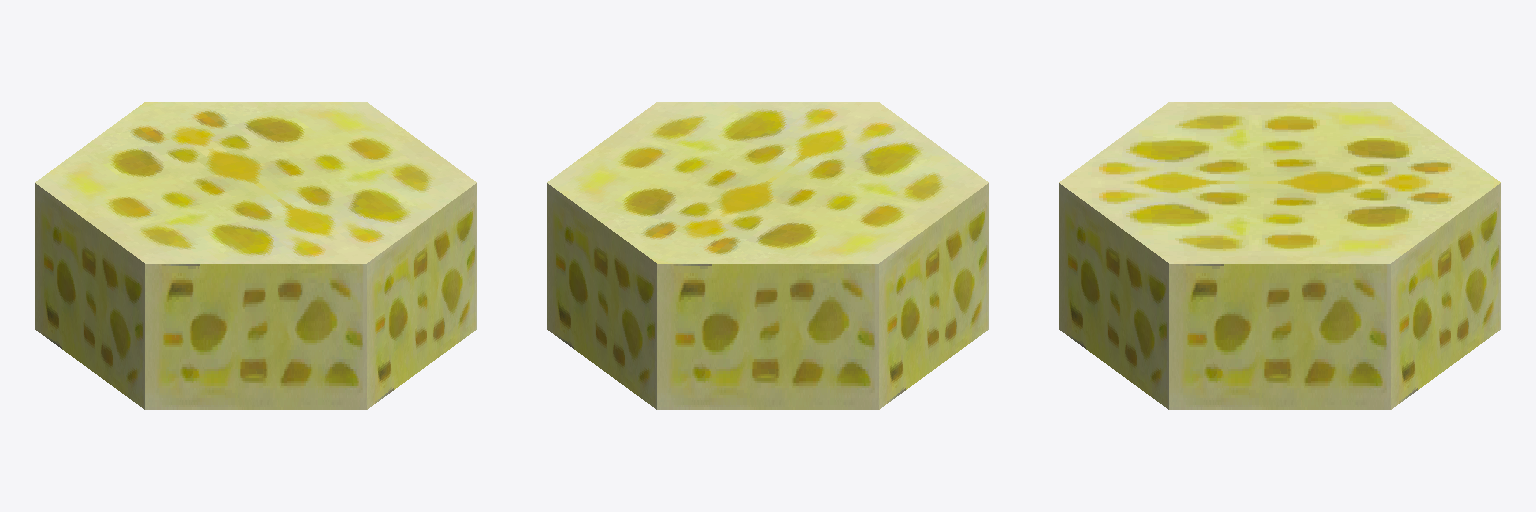
The picture shows the model from 3 angles: view 1: azimuth 30°, elevation 25°; view 2: azimuth 150°, elevation 25°; view 3: azimuth 270°, elevation 25°; orthographic projection.
Parts seen in each view (by area): view 1: cheesewheelswiss01; view 2: cheesewheelswiss01; view 3: cheesewheelswiss01.
Boxes of the visible parts, box(x1,y1,x2,y2) form: cheesewheelswiss01: box(35, 102, 476, 409); cheesewheelswiss01: box(547, 102, 988, 409); cheesewheelswiss01: box(1059, 102, 1500, 409).
Bounding box in the file's own units: 0.0778 × 0.0328 × 0.0898.
Materials: 1 (1 with a texture image).